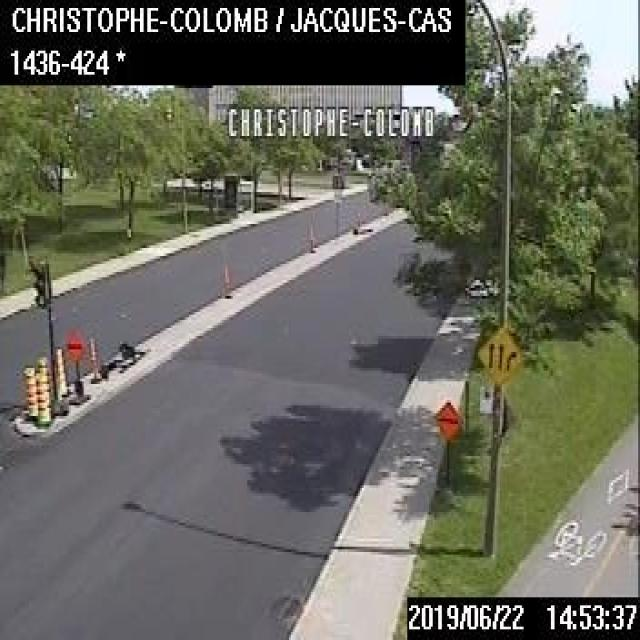construction: (430, 398, 461, 486), (66, 329, 88, 401), (35, 355, 52, 414), (34, 368, 48, 424), (23, 363, 36, 419), (55, 344, 66, 400)
